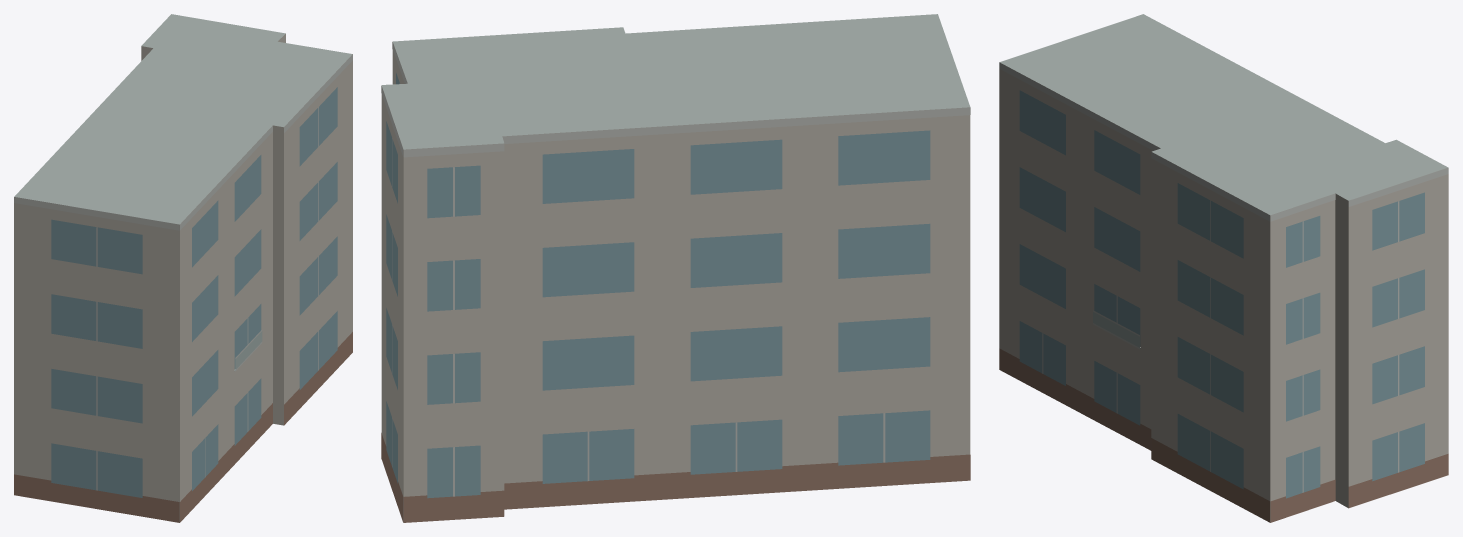
File: survey-upis-32814578.glb
3 renders of one model, left to right at view 1: azimuth 30°, elevation 25°; view 2: azimuth 150°, elevation 25°; view 3: azimuth 270°, elevation 25°, orthographic. The views are drawn at different scales.
Parts seen in each view (by area): view 1: survey-upis-32814578.tmp; view 2: survey-upis-32814578.tmp; view 3: survey-upis-32814578.tmp.
Boxes of the visible parts, box(x1,y1,x2,y2) form: survey-upis-32814578.tmp: box(14, 14, 352, 522); survey-upis-32814578.tmp: box(381, 14, 970, 522); survey-upis-32814578.tmp: box(999, 14, 1448, 522).
Bounding box in the file's own units: 16.37 × 11.65 × 15.43.
